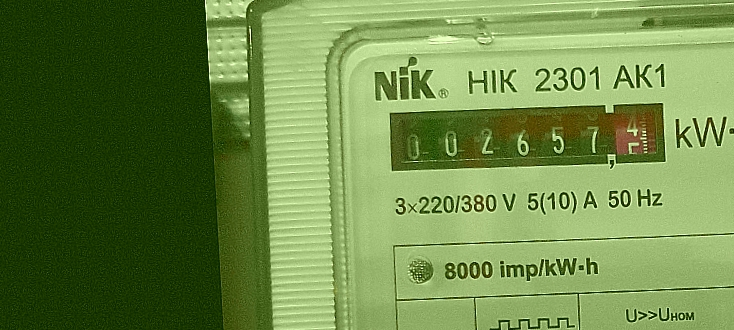0: (442, 127, 459, 158), (404, 131, 422, 160)
2: (478, 125, 495, 155)
4: (624, 110, 640, 137)
5: (549, 124, 567, 155), (626, 140, 642, 155)
6: (514, 126, 530, 156)
7: (585, 122, 602, 155)
screen: (379, 85, 678, 188)
